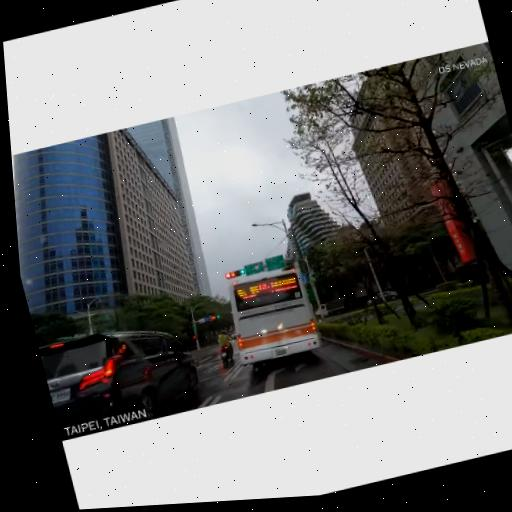Car: (37, 312, 209, 441), (223, 262, 324, 373), (309, 293, 352, 322), (212, 324, 237, 367), (366, 284, 402, 309)
